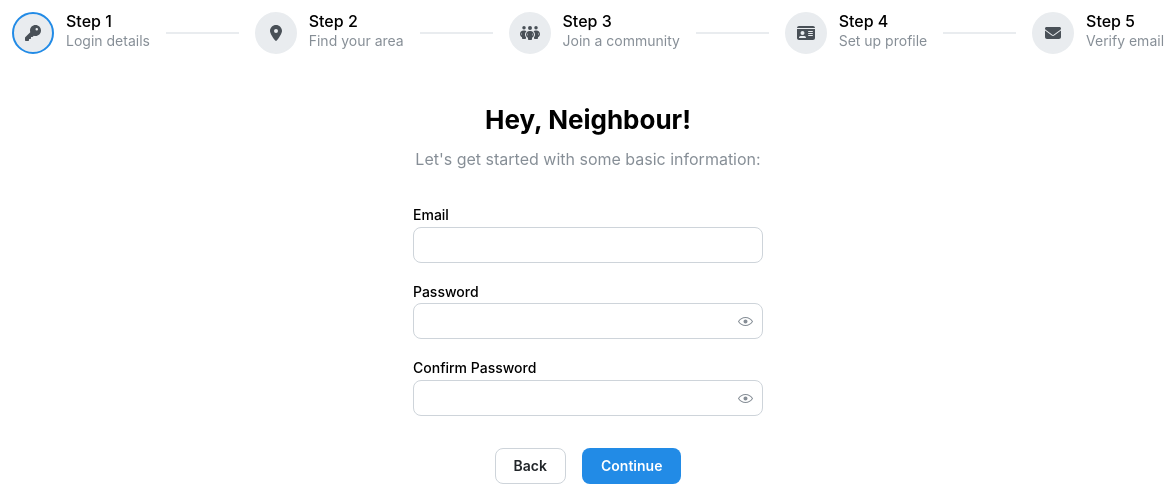
Test: Initial Component & Step 1: Login Details › Navigates to Step 2 on valid input
Type "user@email.com" into the field with test id "email" at [588, 245], box [413,227,763,263]
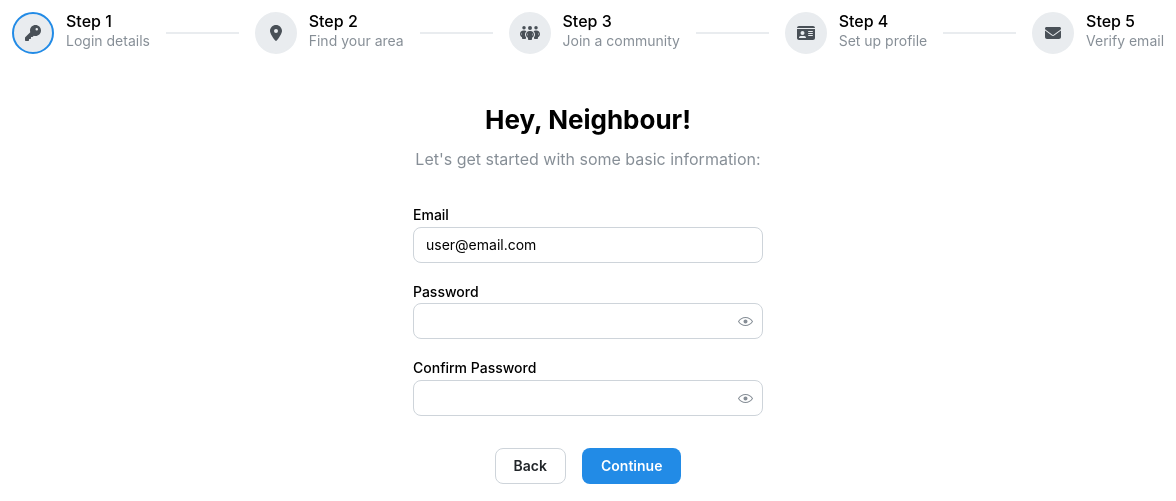
Type "password" into the password field with test id "password" at [588, 322], box [414,304,762,338]
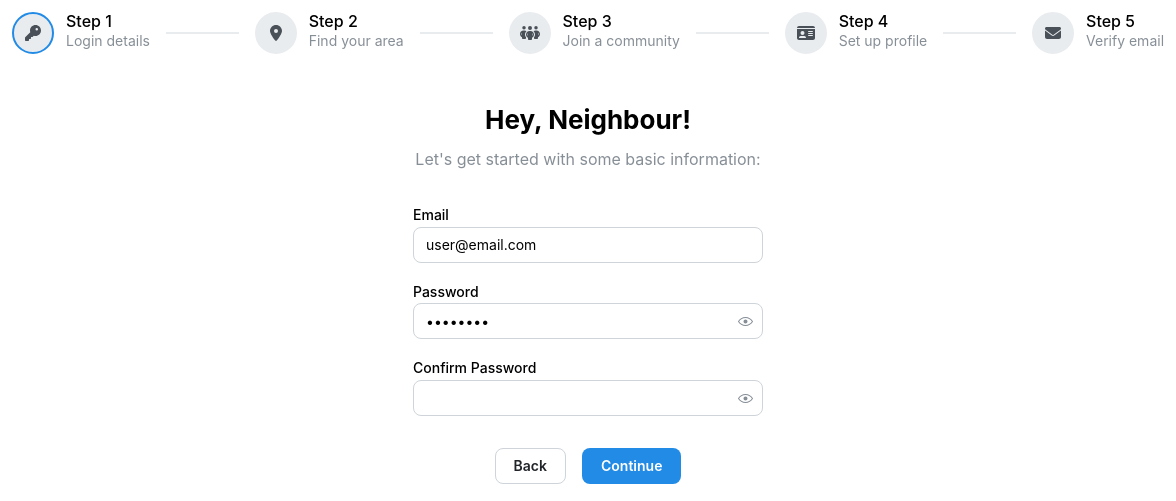
Type "password" into the password field with test id "confirmPassword" at [588, 398], box [414,381,762,415]
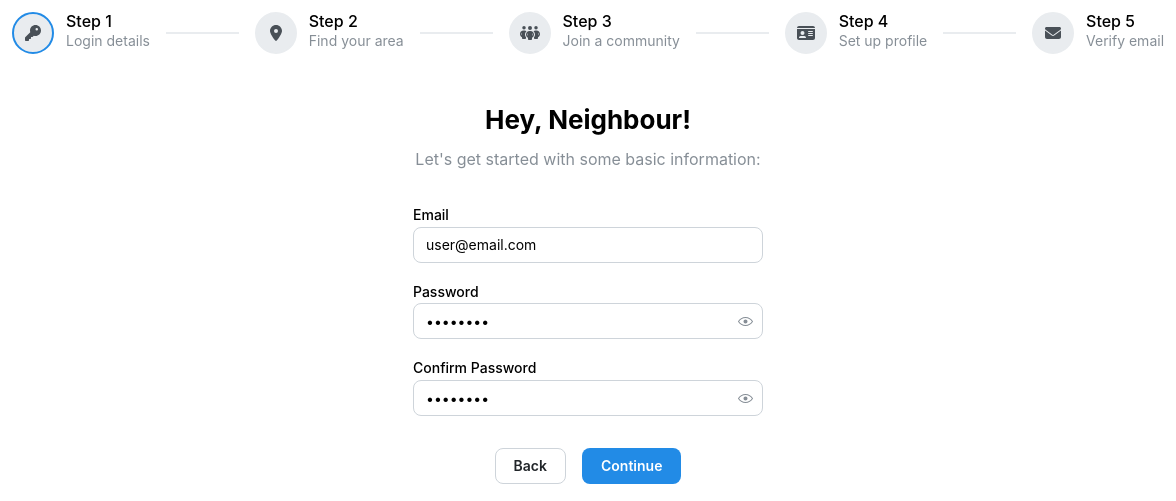
Click the button "Continue" at [632, 466], box [582,448,681,484]
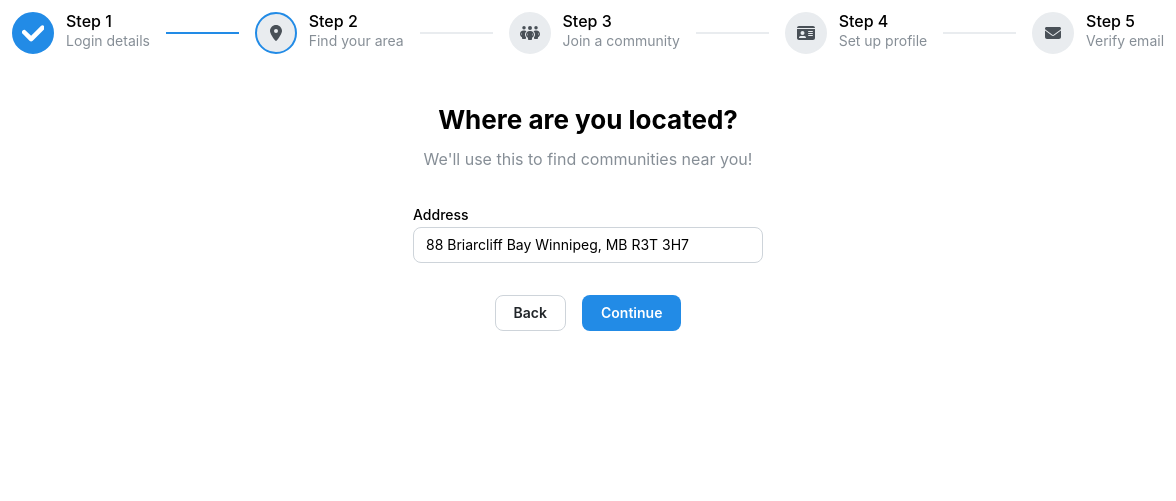
Check: the field with test id "email" is gone
Check: the password field with test id "password" is gone
Check: the password field with test id "confirmPassword" is gone
